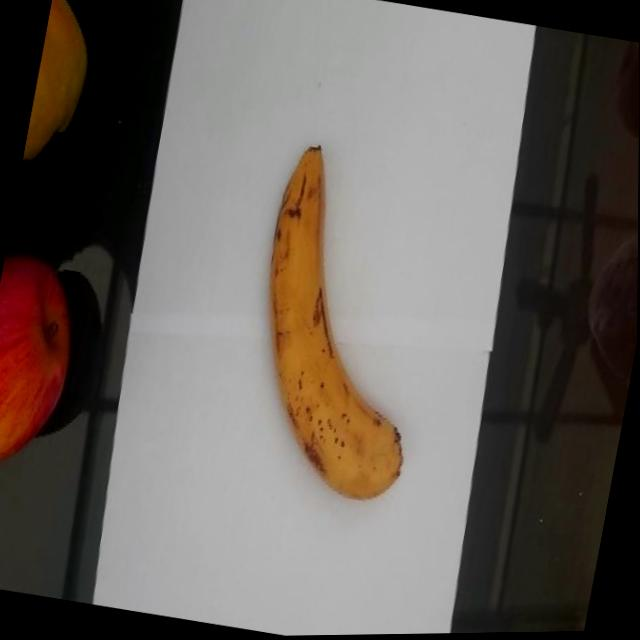Apple: (0, 252, 88, 479)
Banana: (229, 140, 458, 511)
